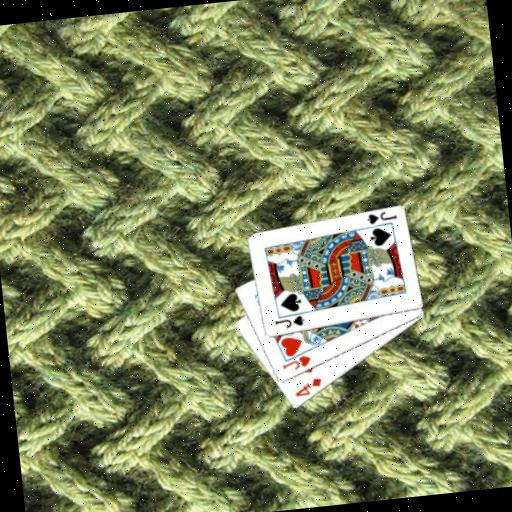4D: (291, 374, 325, 399)
JH: (278, 352, 313, 373)
JS: (271, 313, 306, 332), (364, 208, 399, 227)
